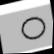no answer: (17, 13, 49, 44)
